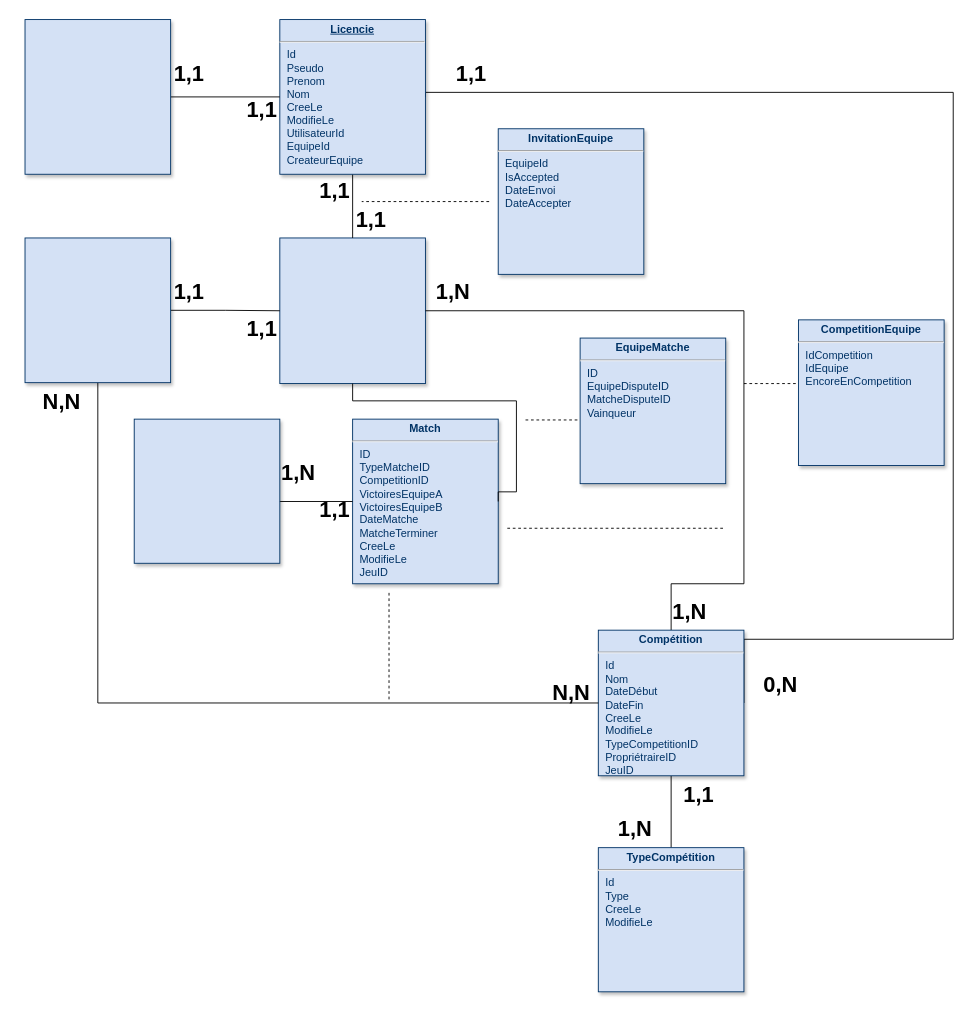
Image size: 970x1015. Some labels were removed from this diagram. Each missing label, with the centre of its shape:
"AspNetUser" belongs at (98,98).
"Equipe Id Nom IsApproved CreeLe ModifieLe JeuID" belongs at (353,311).
"Jeu Id Nom CreeLe ModifieLe" belongs at (98,311).
"TypeDeMatche Id Nom CreeLe ModifieLe" belongs at (207,492).
